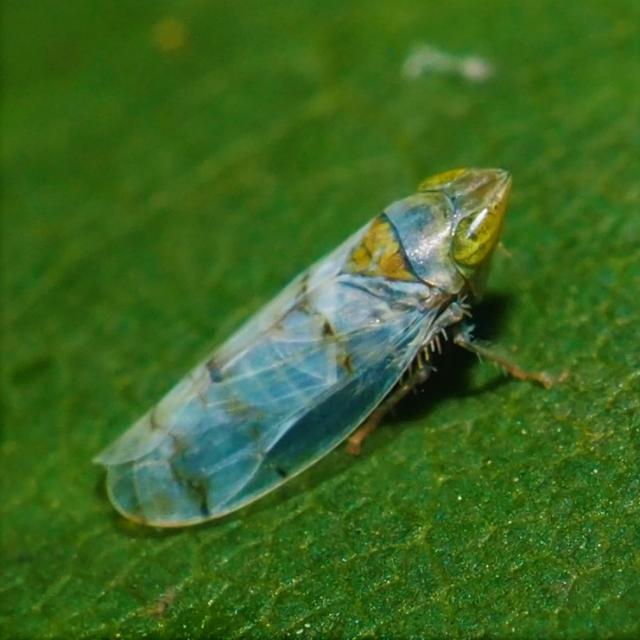Yechan: (79, 159, 540, 532)
